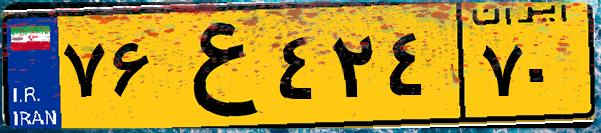0: (525, 38, 570, 115)
2: (330, 28, 385, 110)
4: (270, 28, 330, 110), (385, 28, 445, 110)
6: (110, 28, 158, 98)
7: (57, 26, 110, 100), (475, 38, 525, 113)
ع: (158, 12, 270, 120)
